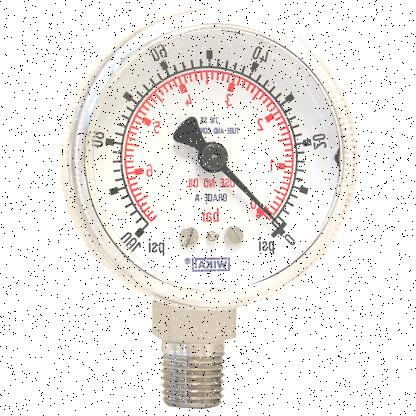needle: (221, 163, 282, 227)
